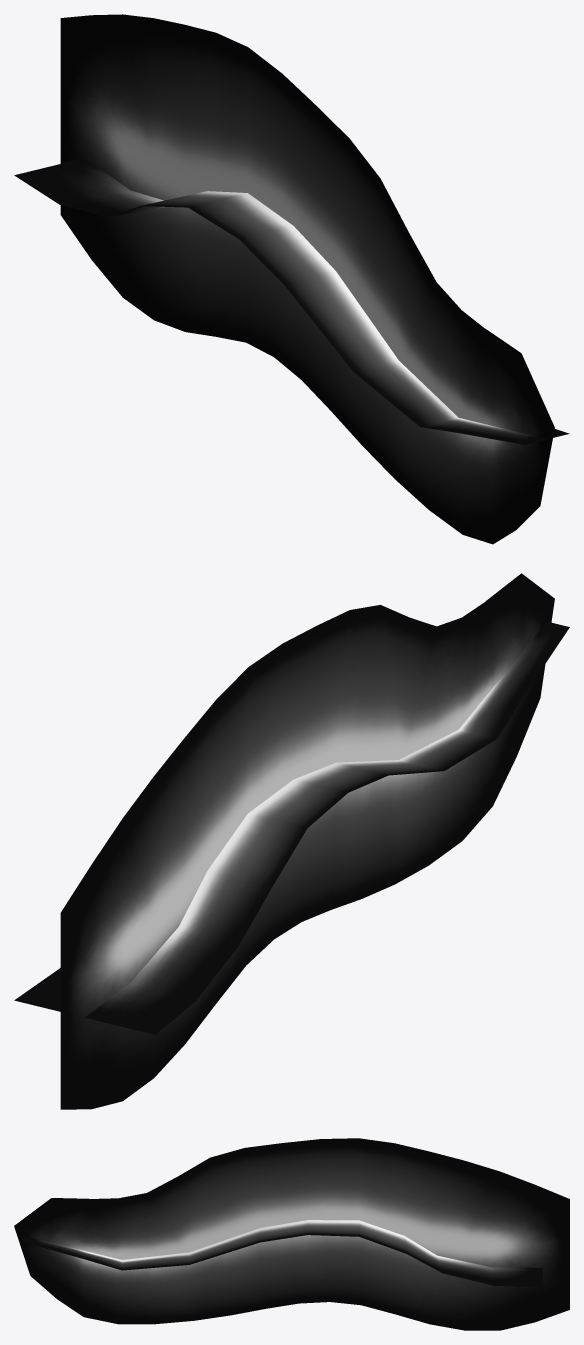
The model's file is FX_lfl_assa_wuqi341_guang.FBX.
The picture shows the model from 3 angles, top to bottom: view 1: azimuth 30°, elevation 25°; view 2: azimuth 150°, elevation 25°; view 3: azimuth 270°, elevation 25°; orthographic projection. The views are drawn at different scales.
Visible parts, largest first — view 1: Plane001; view 2: Plane001; view 3: Plane001.
Boxes of the visible parts, box(x1,y1,x2,y2) form: Plane001: box(14, 14, 569, 544); Plane001: box(14, 573, 569, 1109); Plane001: box(14, 1138, 569, 1330).
Bounding box in the file's own units: 11.05 × 25.6 × 67.01.
Materials: 1 (1 with a texture image).
